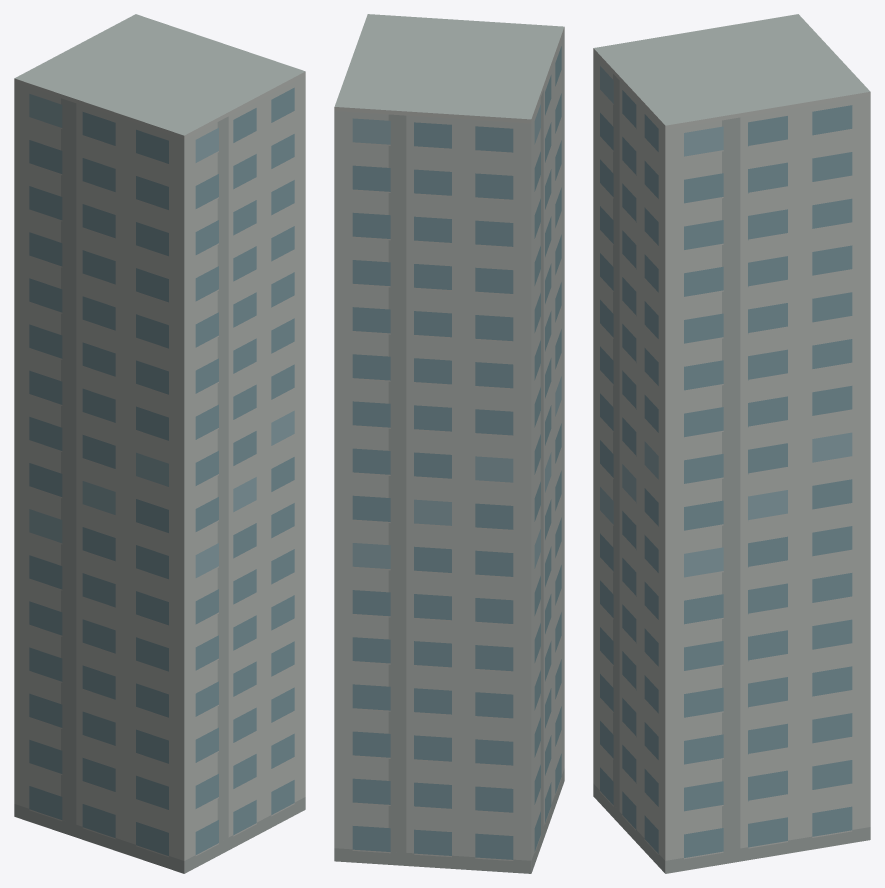
File: residential-0e207960-2deb-4764-bfbb-154148afe60f.glb
3 renders of one model, left to right at view 1: azimuth 30°, elevation 25°; view 2: azimuth 150°, elevation 25°; view 3: azimuth 270°, elevation 25°, orthographic. The views are drawn at different scales.
Visible parts, largest first — view 1: residential-0e207960-2deb-4764-bfbb-154148afe60f.tmp; view 2: residential-0e207960-2deb-4764-bfbb-154148afe60f.tmp; view 3: residential-0e207960-2deb-4764-bfbb-154148afe60f.tmp.
Boxes of the visible parts, left/top/right/bottom form: residential-0e207960-2deb-4764-bfbb-154148afe60f.tmp: left=14, top=14, right=305, bottom=873; residential-0e207960-2deb-4764-bfbb-154148afe60f.tmp: left=334, top=14, right=564, bottom=873; residential-0e207960-2deb-4764-bfbb-154148afe60f.tmp: left=593, top=14, right=870, bottom=873.
Size of the model in its own units: 14.09 by 44 by 14.78.
